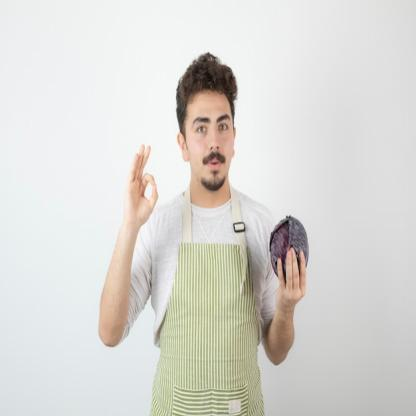ok: (122, 137, 159, 226)
